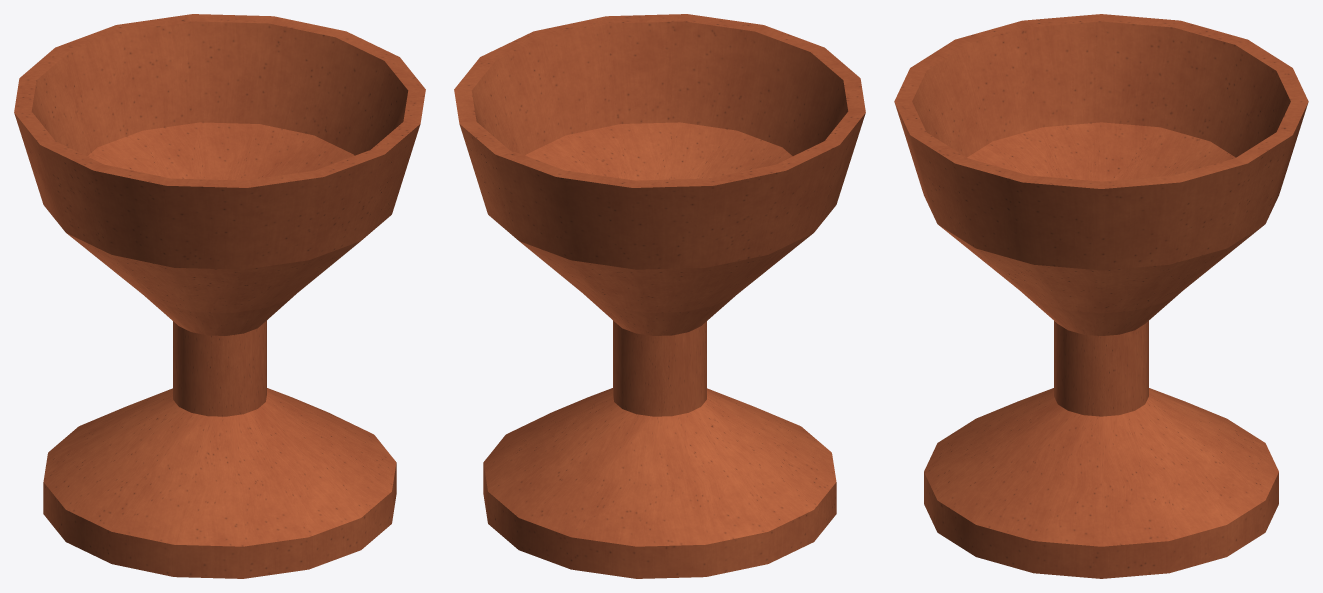
The model's file is copalero.obj.
3 views of the same model, side by side, from view 1: azimuth 30°, elevation 25°; view 2: azimuth 150°, elevation 25°; view 3: azimuth 270°, elevation 25° (orthographic).
Parts seen in each view (by area): view 1: Copalero; view 2: Copalero; view 3: Copalero.
Part boxes in pixels (x1,y1,x2,y2): Copalero: (14, 14, 425, 578); Copalero: (454, 14, 865, 578); Copalero: (894, 14, 1308, 578).
Bounding box in the file's own units: 0.14 × 0.15 × 0.14.
1 material, 1 textured.
